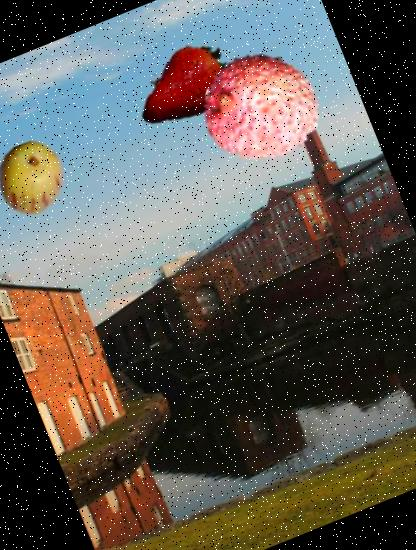Lychee: (186, 32, 338, 184)
Pepino: (0, 132, 76, 224)
Strawberry: (130, 26, 252, 148)
